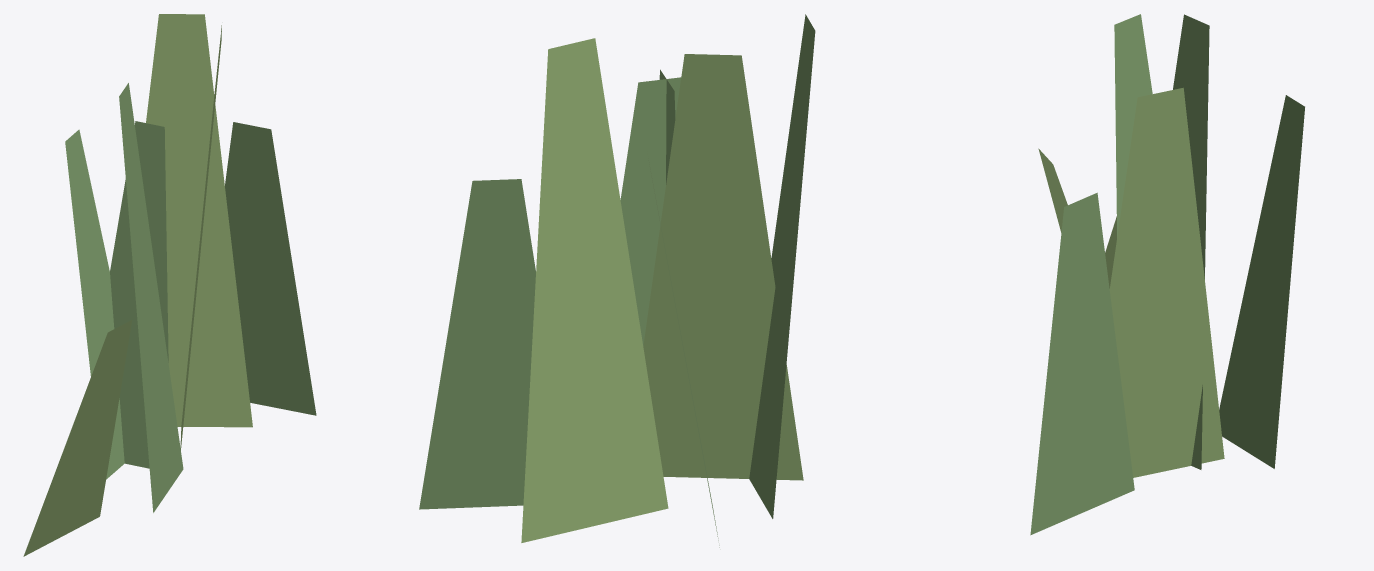
The model's file is shrub.temp.grass__spring.glb.
The picture shows the model from 3 angles, left to right: view 1: azimuth 30°, elevation 25°; view 2: azimuth 150°, elevation 25°; view 3: azimuth 270°, elevation 25°; orthographic projection. The views are drawn at different scales.
Visible parts, largest first — view 1: shrub.temp.grass__spring; view 2: shrub.temp.grass__spring; view 3: shrub.temp.grass__spring.
Boxes of the visible parts, x1,y1,x2,y2 form: shrub.temp.grass__spring: (23,14,316,556); shrub.temp.grass__spring: (419,14,815,547); shrub.temp.grass__spring: (1030,14,1304,535).
Bounding box in the file's own units: 0.5952 × 0.5961 × 0.4268.
